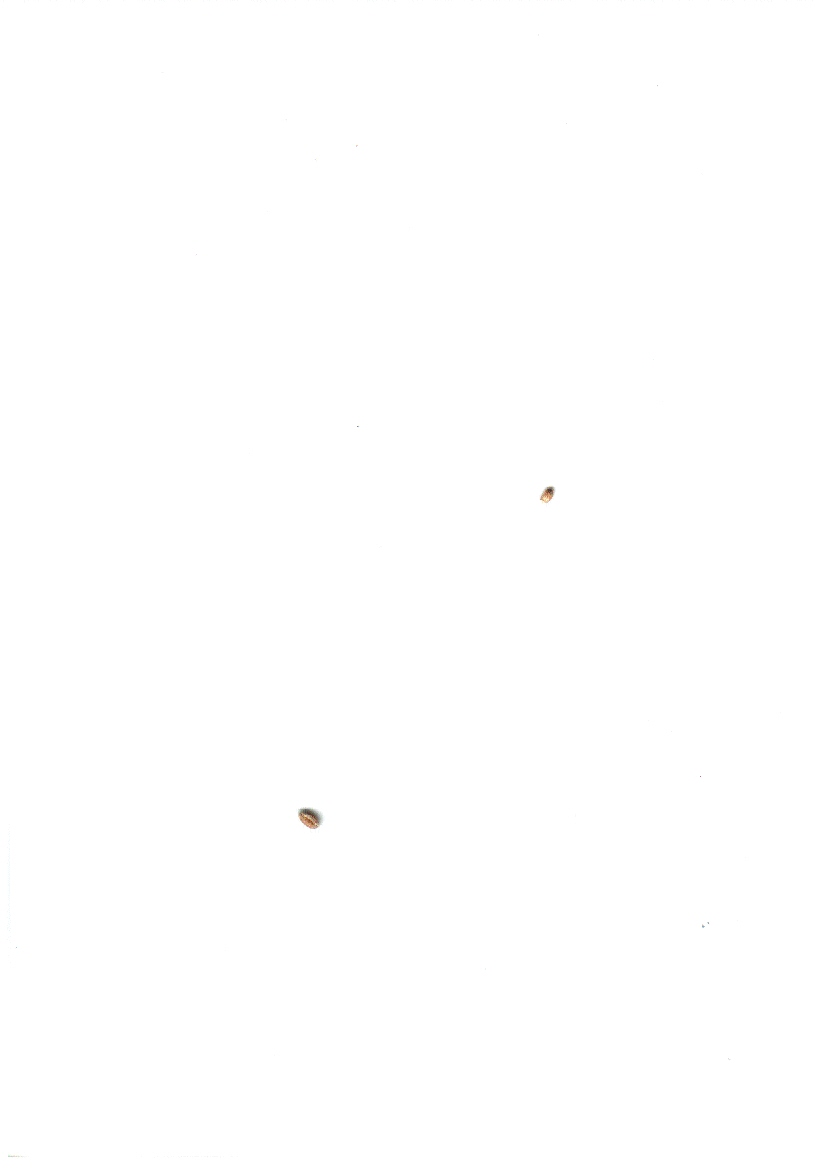grains: (289, 790, 334, 851), (527, 472, 568, 521)
